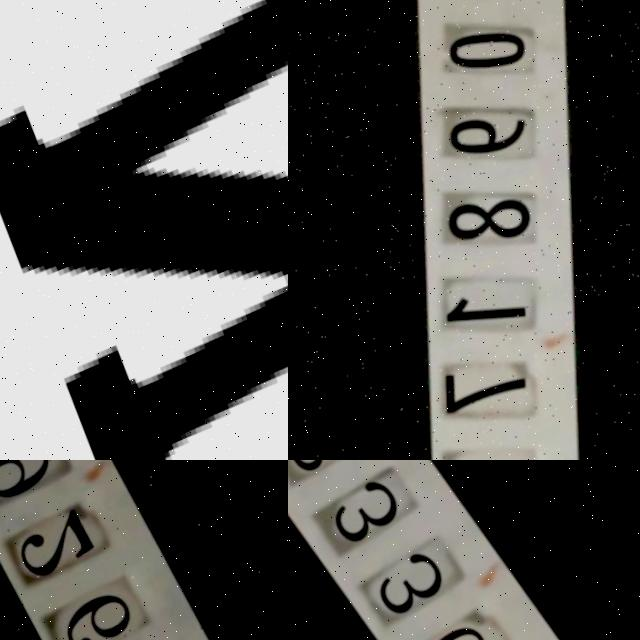0: (420, 0, 550, 100), (395, 590, 523, 640)
1: (420, 237, 558, 362), (425, 408, 563, 460)
2: (0, 487, 117, 590)
3: (350, 522, 477, 636), (301, 460, 433, 565), (288, 460, 378, 492)
6: (40, 563, 159, 640)
7: (421, 321, 560, 447), (429, 0, 548, 23)
8: (419, 149, 562, 278)
9: (421, 69, 552, 186), (0, 460, 78, 516)
N: (0, 0, 288, 460)
